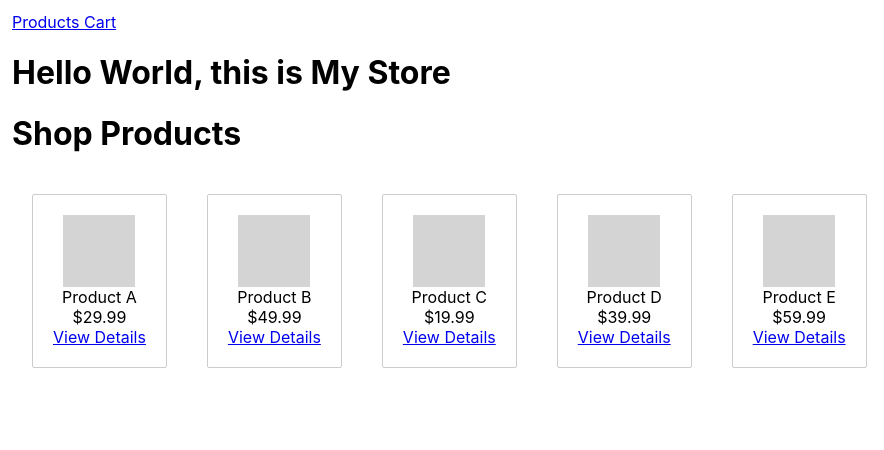
Verify that clicking on a product in the product list takes you to the product details page
The image size is (884, 450).
Expected: the element with test id "product-1" is shown, [32,194,167,368]
# Click on product A
Click the link "View Details" below "29.99" at (99, 337), box [53,327,146,347]
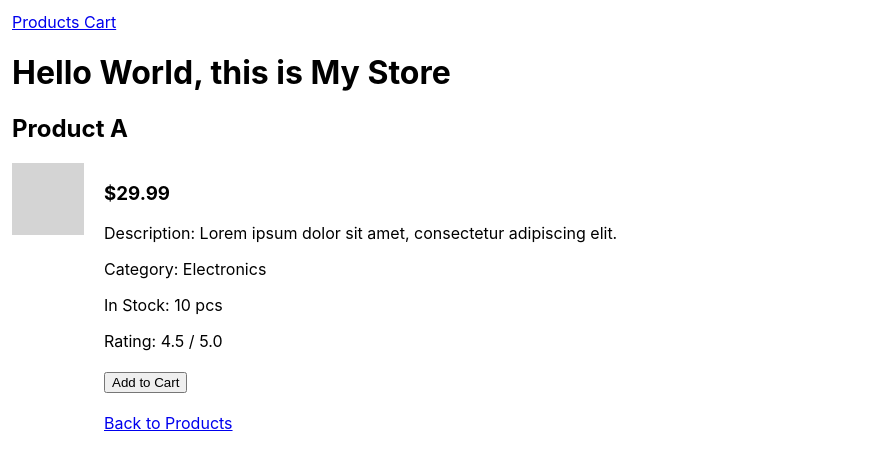
Expected: the heading "Shop Products" is gone
Expected: the text "Category: Electronics" is shown, [104,259,266,279]
Expected: the link "Back to Products" is shown, [104,413,232,433]
